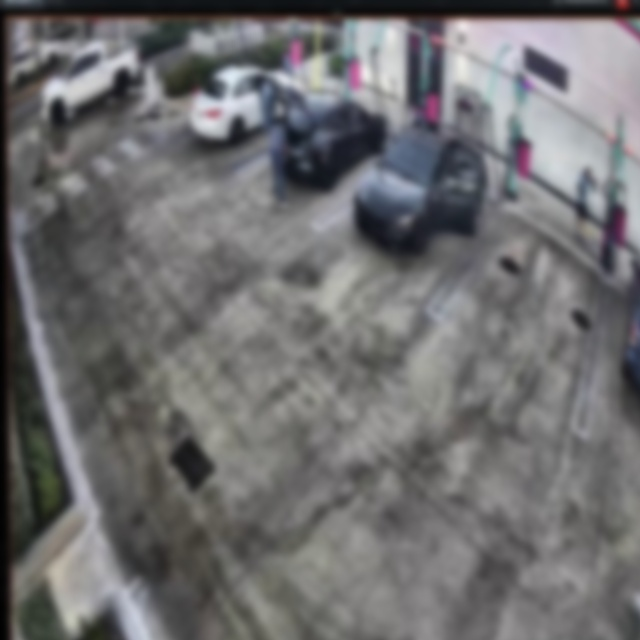Car: (351, 120, 491, 260), (272, 85, 389, 176), (187, 63, 305, 142)
